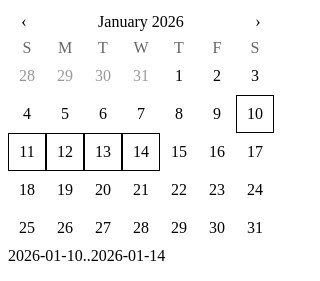
Test: RangeCalendar › starts a new range on click and reflects it via bind:value
Click the button with class "sve-range-day" showing "5" at (65, 114), box [61,105,69,122]
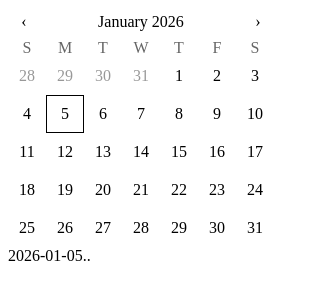
Now the text with test id "range" shows "2026-01-05", box [8,247,91,264]
